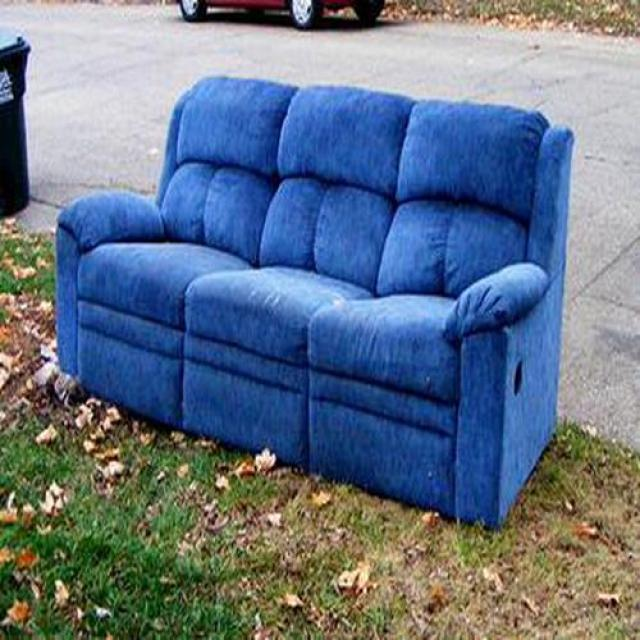sofa: (52, 77, 576, 531)
